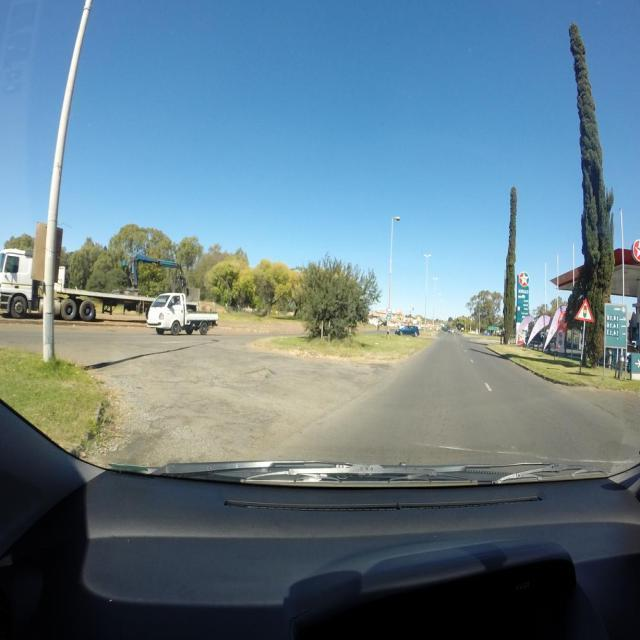pothole: (243, 367, 276, 378)
